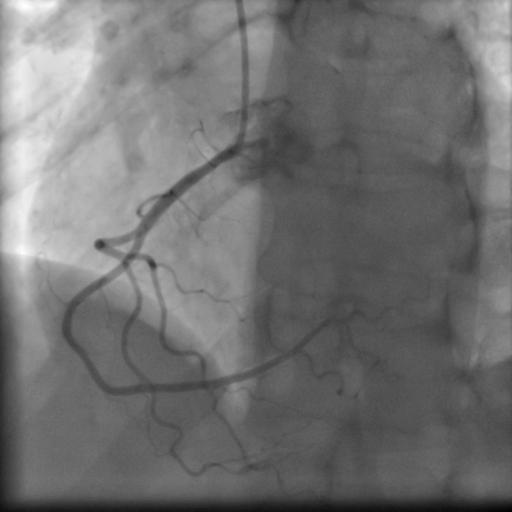Stenosis: (74, 332, 99, 379)
